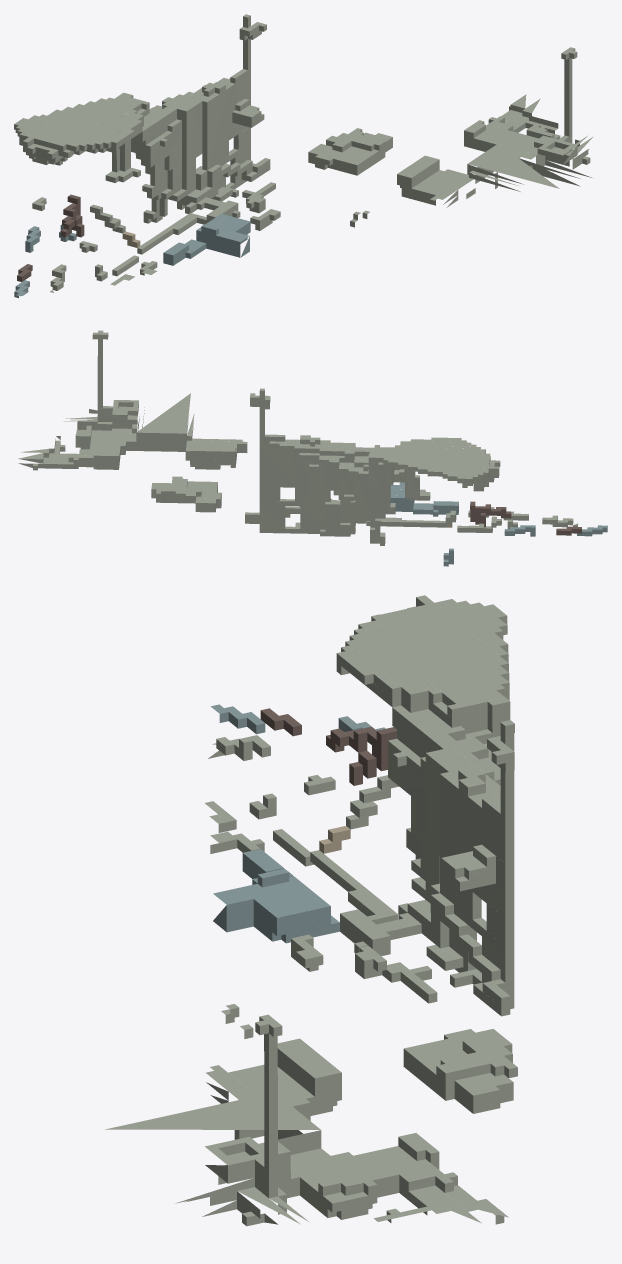
3 renders of one model, top to bottom at view 1: azimuth 30°, elevation 25°; view 2: azimuth 150°, elevation 25°; view 3: azimuth 270°, elevation 25°, orthographic. The views are drawn at different scales.
Parts seen in each view (by area): view 1: measured-industrial; view 2: measured-industrial; view 3: measured-industrial.
Part boxes in pixels (x1,y1,x2,y2): measured-industrial: (14,14,593,298); measured-industrial: (18,330,607,566); measured-industrial: (105,595,517,1226).
Bounding box in the file's own units: 182 × 46.54 × 61.33.
